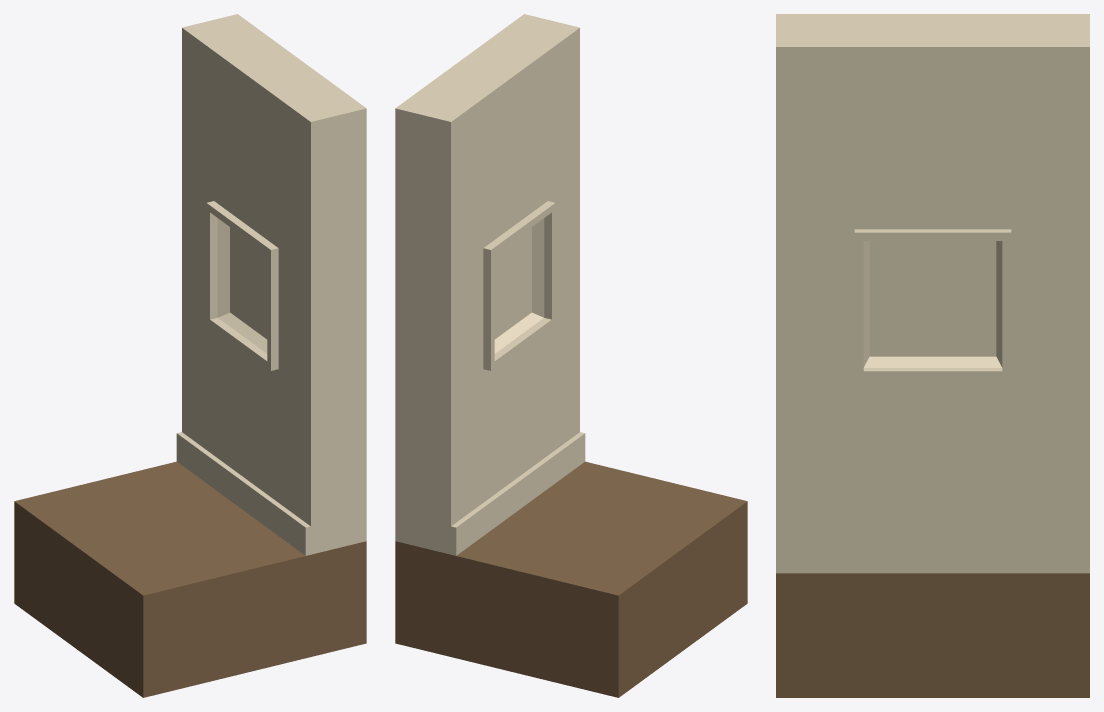
File: EdgeWall_Window.fbx
The picture shows the model from 3 angles, left to right: view 1: azimuth 30°, elevation 25°; view 2: azimuth 150°, elevation 25°; view 3: azimuth 270°, elevation 25°; orthographic projection. The views are drawn at different scales.
Visible parts, largest first — view 1: EdgeWall_Window; view 2: EdgeWall_Window; view 3: EdgeWall_Window.
Part boxes in pixels (x1,y1,x2,y2): EdgeWall_Window: [14, 14, 366, 697]; EdgeWall_Window: [395, 14, 747, 697]; EdgeWall_Window: [776, 14, 1089, 697].
Bounding box in the file's own units: 205 × 458 × 200.
